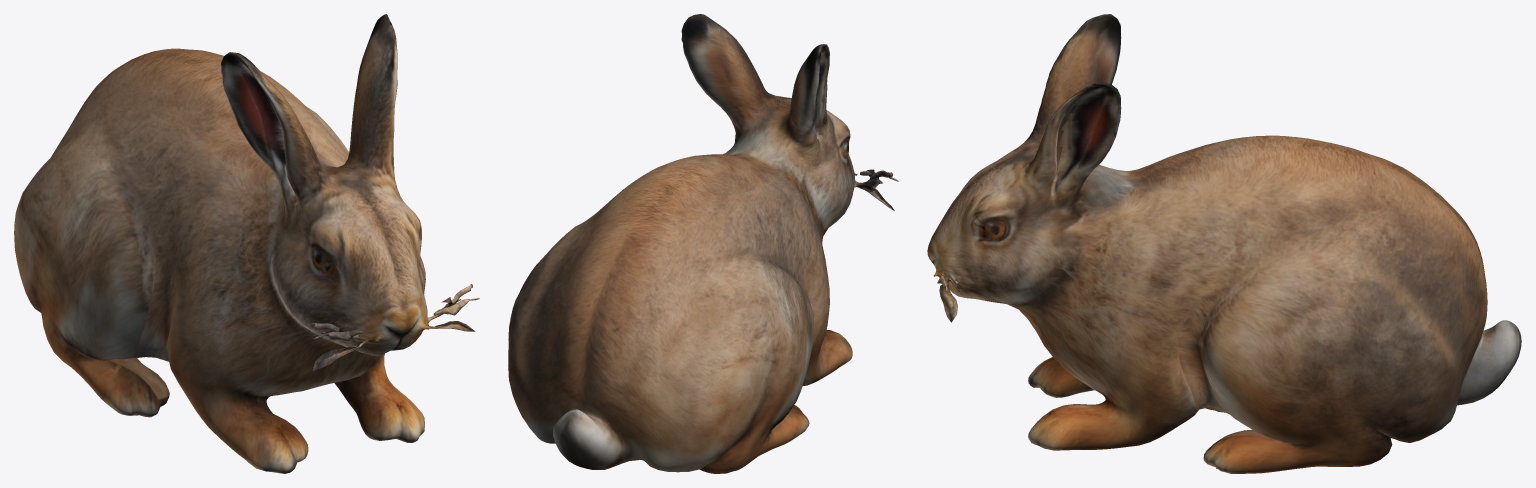
Rendered from rabbit.glb.
3 views of the same model, side by side, from view 1: azimuth 30°, elevation 25°; view 2: azimuth 150°, elevation 25°; view 3: azimuth 270°, elevation 25° (orthographic). The views are drawn at different scales.
Visible parts, largest first — view 1: MeshyFit; view 2: MeshyFit; view 3: MeshyFit.
Boxes of the visible parts, x1=… form: MeshyFit: x1=14, y1=14, x2=479, y2=473; MeshyFit: x1=508, y1=14, x2=898, y2=473; MeshyFit: x1=927, y1=14, x2=1521, y2=473.
Size of the model in its own units: 0.2321 by 0.3 by 0.4357.
1 material, 1 textured.
